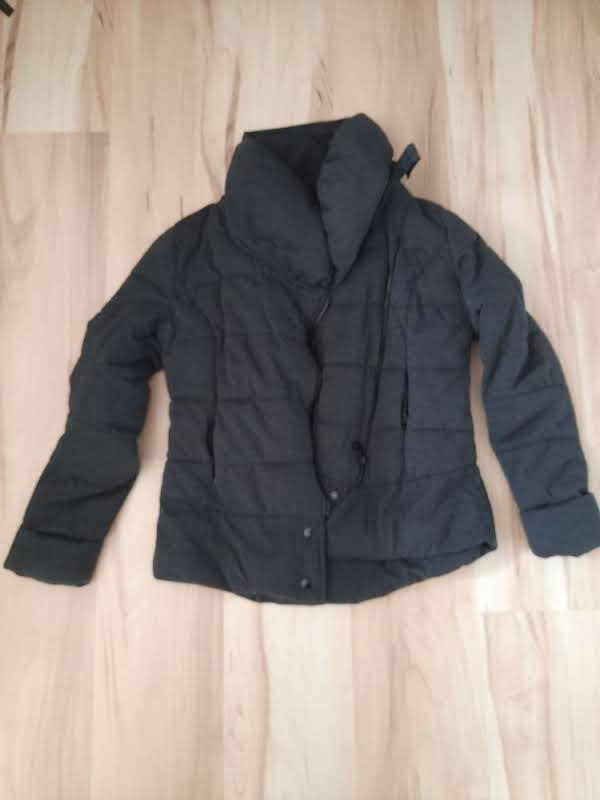clothes: (10, 118, 600, 614)
